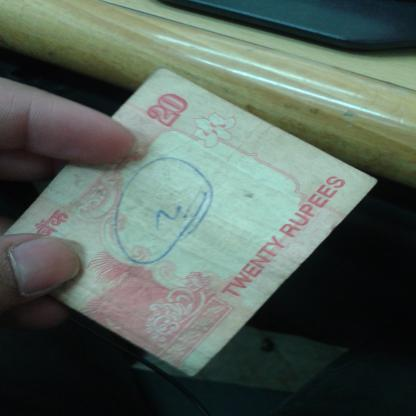Old20Back: (3, 76, 351, 359)
